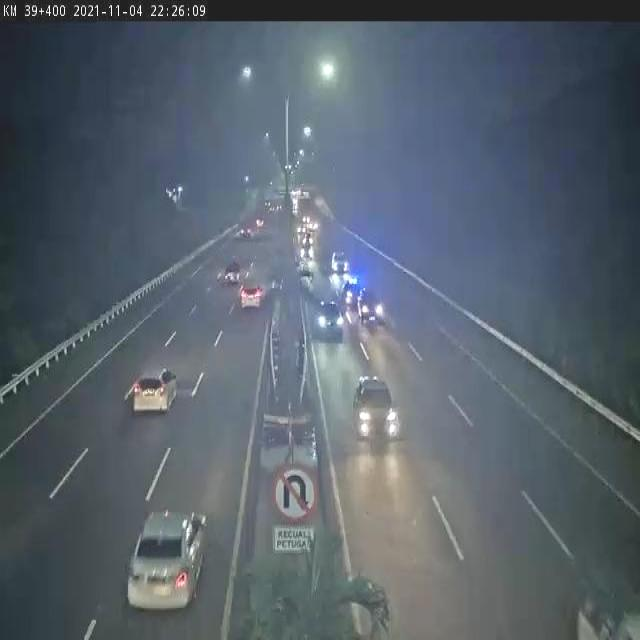Car: (113, 496, 215, 622), (346, 370, 402, 449), (131, 353, 186, 429), (312, 297, 346, 343), (356, 286, 387, 335), (328, 242, 356, 278), (242, 276, 268, 309), (344, 274, 362, 307), (300, 240, 316, 268), (235, 219, 252, 245)
Truck: (223, 256, 243, 286)
